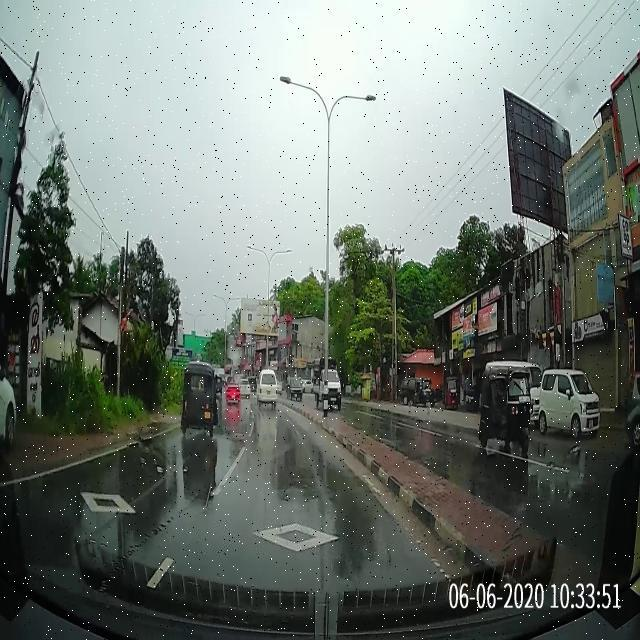diamond: (173, 522, 429, 554)
